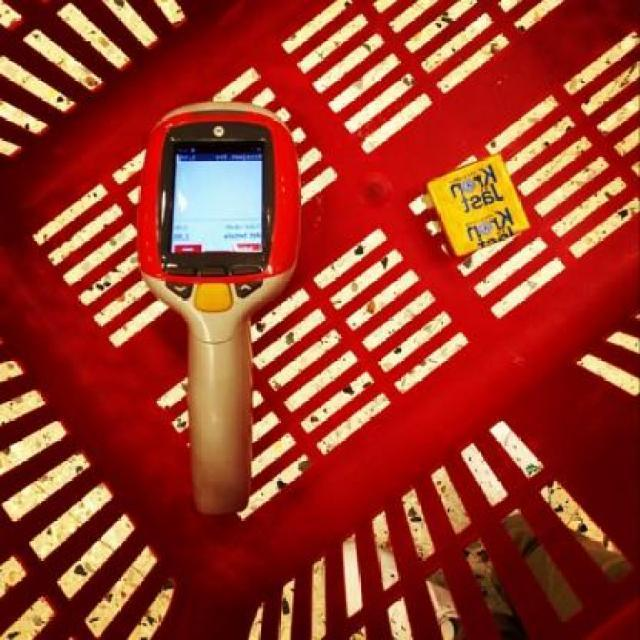phone: (151, 122, 271, 279)
